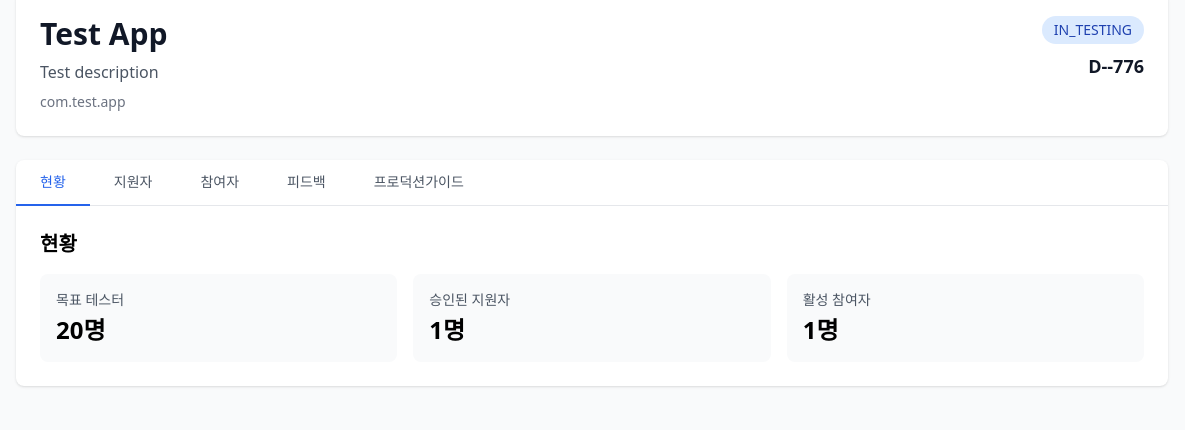
Test: AppDetailPage › Feedback Tab › displays feedback list
The width and height of the screenshot is (1185, 430).
Expected: the heading "Test App" is shown, [40,16,167,52]
Click the tab "피드백".
click(306, 183)  # box [263,160,350,206]
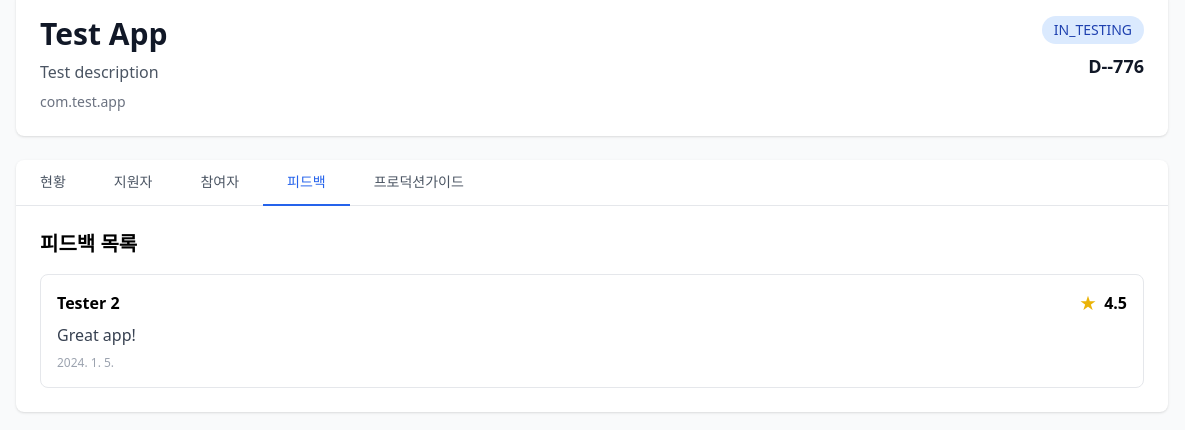
Expected: the text "Great app!" is shown, [57,324,136,346]
Expected: the text "4.5" is shown, [1104,291,1127,315]
